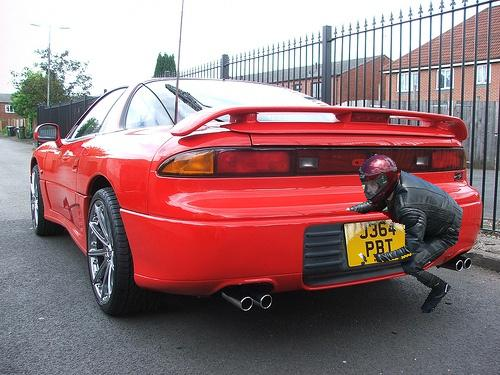tampered: (347, 155, 463, 313)
